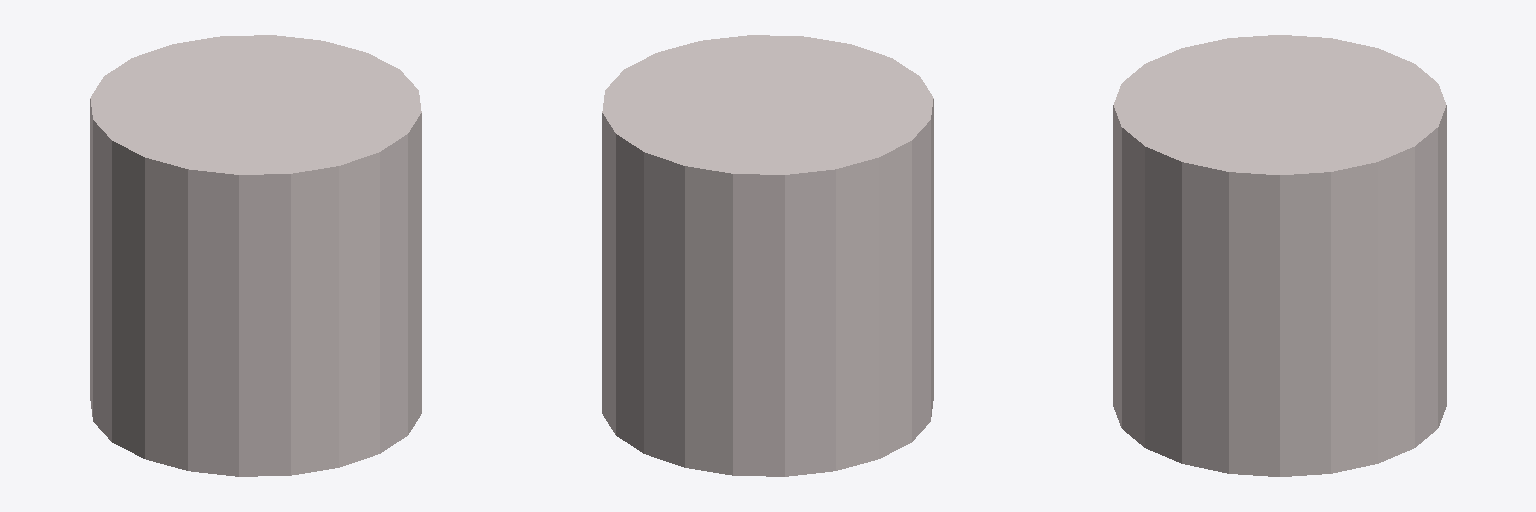
3 renders of one model, left to right at view 1: azimuth 30°, elevation 25°; view 2: azimuth 150°, elevation 25°; view 3: azimuth 270°, elevation 25°, orthographic.
Visible parts, largest first — view 1: pCylinder2; view 2: pCylinder2; view 3: pCylinder2.
Boxes of the visible parts, <box> form: pCylinder2: <box>90,35,421,476</box>; pCylinder2: <box>602,35,933,476</box>; pCylinder2: <box>1113,35,1446,476</box>.
Bounding box in the file's own units: 2 × 2 × 2.
1 materials, 1 textured.